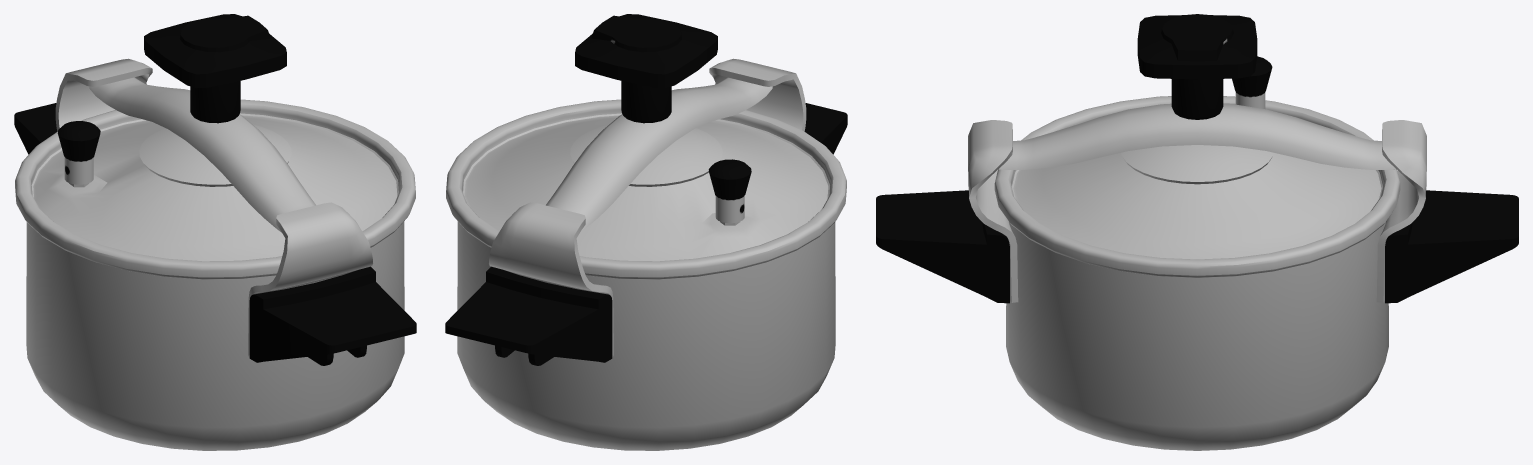
3 views of the same model, side by side, from view 1: azimuth 30°, elevation 25°; view 2: azimuth 150°, elevation 25°; view 3: azimuth 270°, elevation 25° (orthographic).
Parts seen in each view (by area): view 1: Body_lr, Lid_lr, Handles_lr, Lock_lr, HandleBases_lr, ScrewHandle_lr, ValveCap_lr; view 2: Body_lr, Lid_lr, Handles_lr, Lock_lr, HandleBases_lr, ScrewHandle_lr, ValveCap_lr; view 3: Body_lr, Lid_lr, Handles_lr, Lock_lr, ScrewHandle_lr, HandleBases_lr, ValveCap_lr.
Boxes of the visible parts, bbox=[...] form: Body_lr: bbox=[26, 217, 407, 450]; Lid_lr: bbox=[15, 99, 415, 277]; Handles_lr: bbox=[14, 103, 416, 365]; Lock_lr: bbox=[89, 77, 315, 232]; HandleBases_lr: bbox=[55, 58, 372, 357]; ScrewHandle_lr: bbox=[144, 14, 286, 123]; ValveCap_lr: bbox=[57, 121, 100, 184]; Body_lr: bbox=[454, 217, 835, 450]; Lid_lr: bbox=[446, 99, 846, 277]; Handles_lr: bbox=[445, 103, 847, 365]; Lock_lr: bbox=[546, 77, 772, 232]; HandleBases_lr: bbox=[489, 58, 806, 357]; ScrewHandle_lr: bbox=[575, 14, 717, 123]; ValveCap_lr: bbox=[708, 159, 751, 223]; Body_lr: bbox=[1006, 222, 1388, 450]; Lid_lr: bbox=[994, 96, 1400, 275]; Handles_lr: bbox=[876, 190, 1518, 303]; Lock_lr: bbox=[998, 103, 1396, 169]; ScrewHandle_lr: bbox=[1137, 14, 1257, 119]; HandleBases_lr: bbox=[968, 120, 1426, 302]; ValveCap_lr: bbox=[1232, 56, 1272, 108].
Bounding box in the file's own units: 23.67 × 22.92 × 37.52.
Materials: 1 (1 with a texture image).
